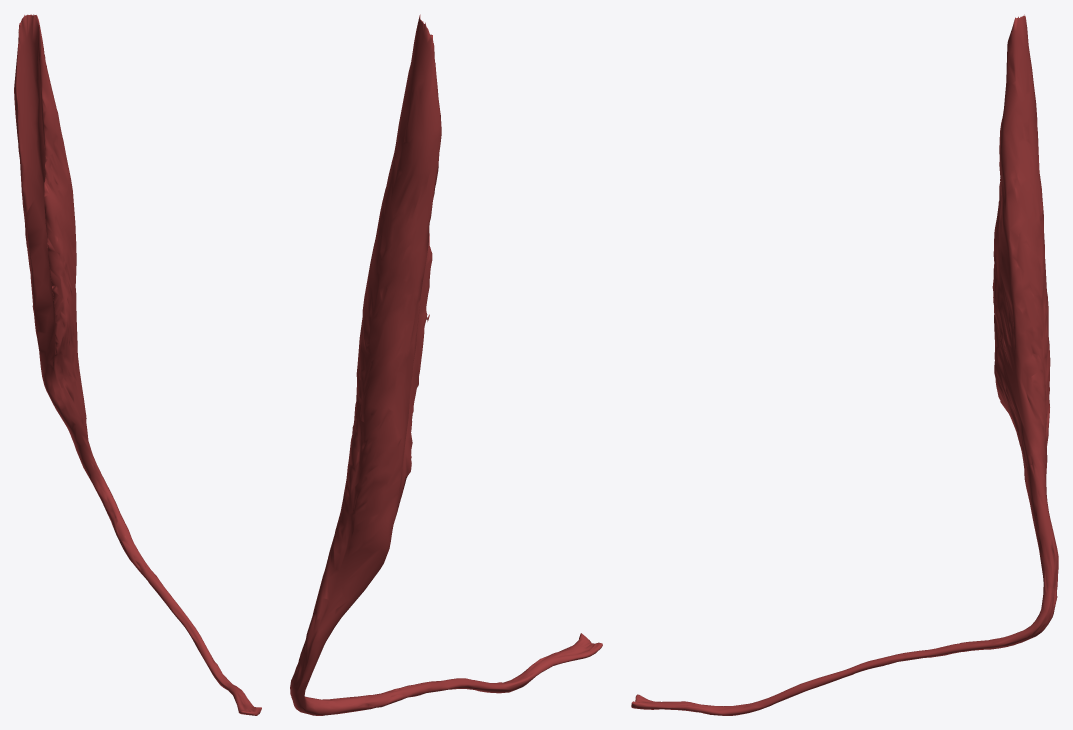
Rendered from flexor-hallucis-longus-r.glb.
The picture shows the model from 3 angles, left to right: view 1: azimuth 30°, elevation 25°; view 2: azimuth 150°, elevation 25°; view 3: azimuth 270°, elevation 25°; orthographic projection. The views are drawn at different scales.
Visible parts, largest first — view 1: Flexor hallucis longus.r; view 2: Flexor hallucis longus.r; view 3: Flexor hallucis longus.r.
Part boxes in pixels (<box>): Flexor hallucis longus.r: <box>14,14,261,715</box>; Flexor hallucis longus.r: <box>290,14,602,715</box>; Flexor hallucis longus.r: <box>631,14,1058,715</box>.
Size of the model in its own units: 0.0566 by 0.3177 by 0.1848.
